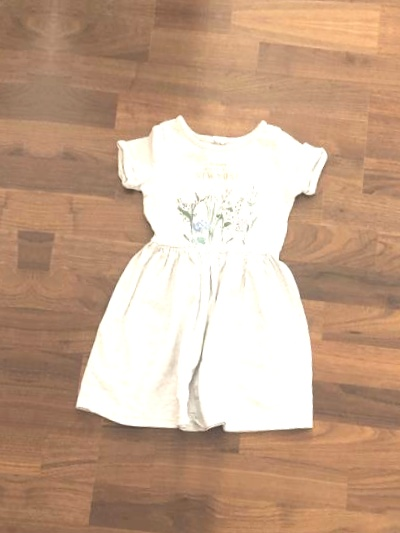Dress: (52, 80, 388, 462), (0, 49, 16, 431)
